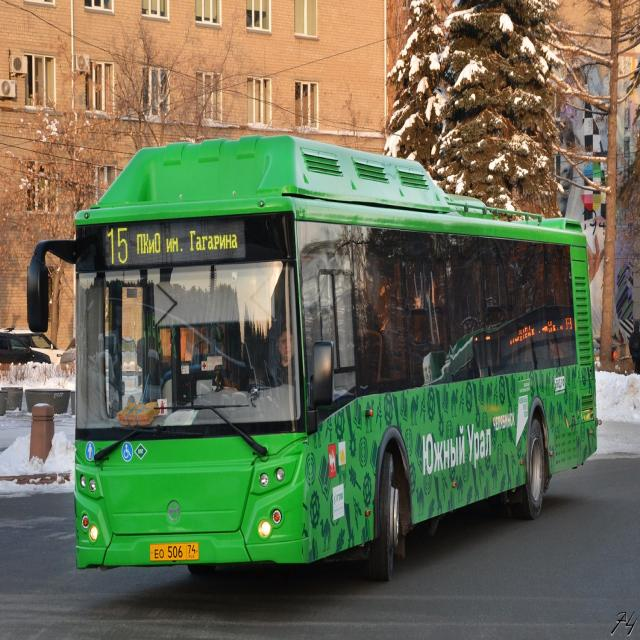number-of-bus: (107, 225, 134, 270)
